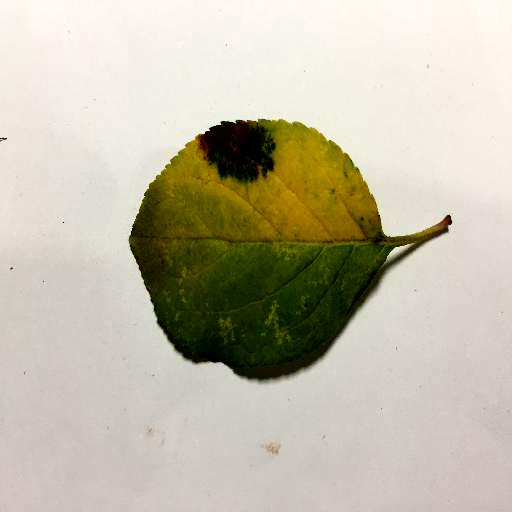Brown_Spot: (191, 129, 279, 177)
